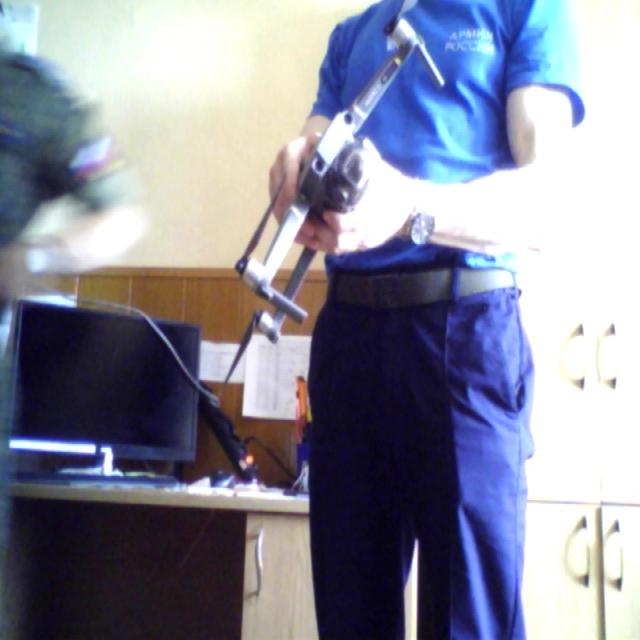drone: (216, 0, 438, 382)
